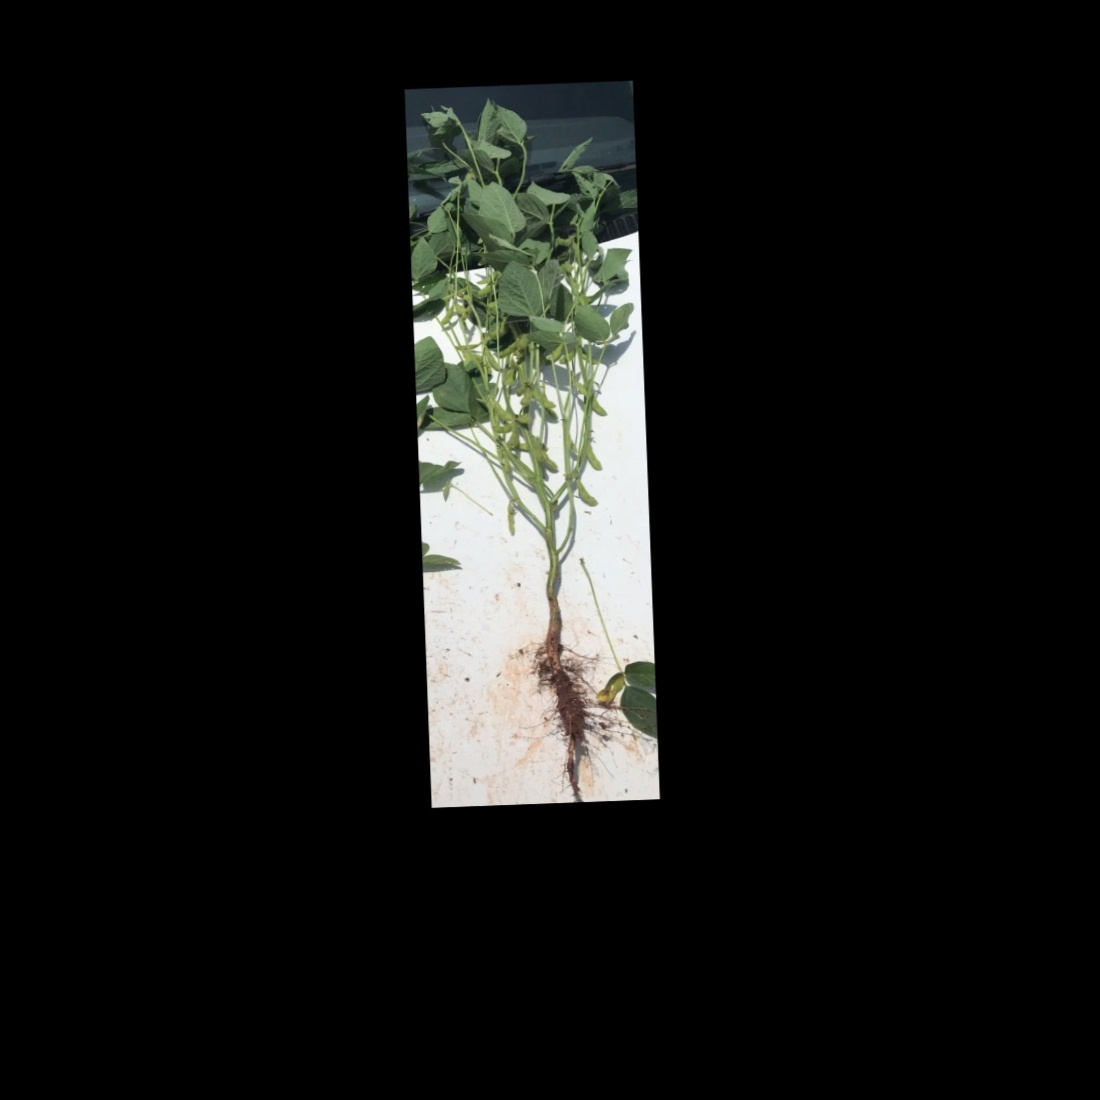pod: (572, 476, 605, 512), (583, 437, 605, 475), (484, 347, 504, 377), (590, 393, 609, 419), (543, 343, 565, 366), (437, 304, 453, 329), (487, 422, 517, 435)
soy: (420, 99, 650, 763)
